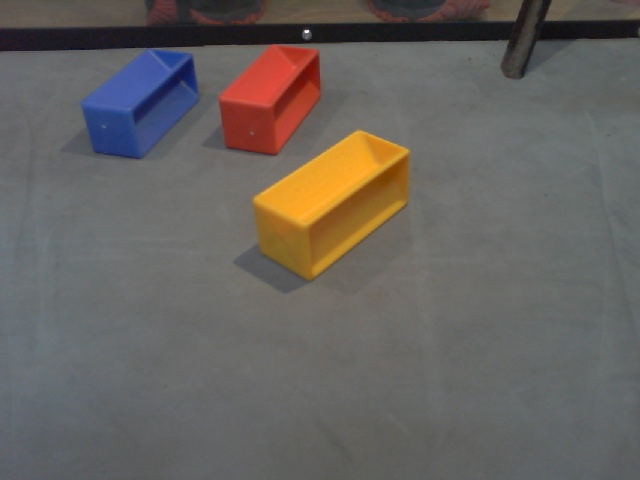BlueSample: (80, 47, 200, 160)
RedSample: (216, 42, 325, 158)
YellowSample: (248, 128, 413, 285)
